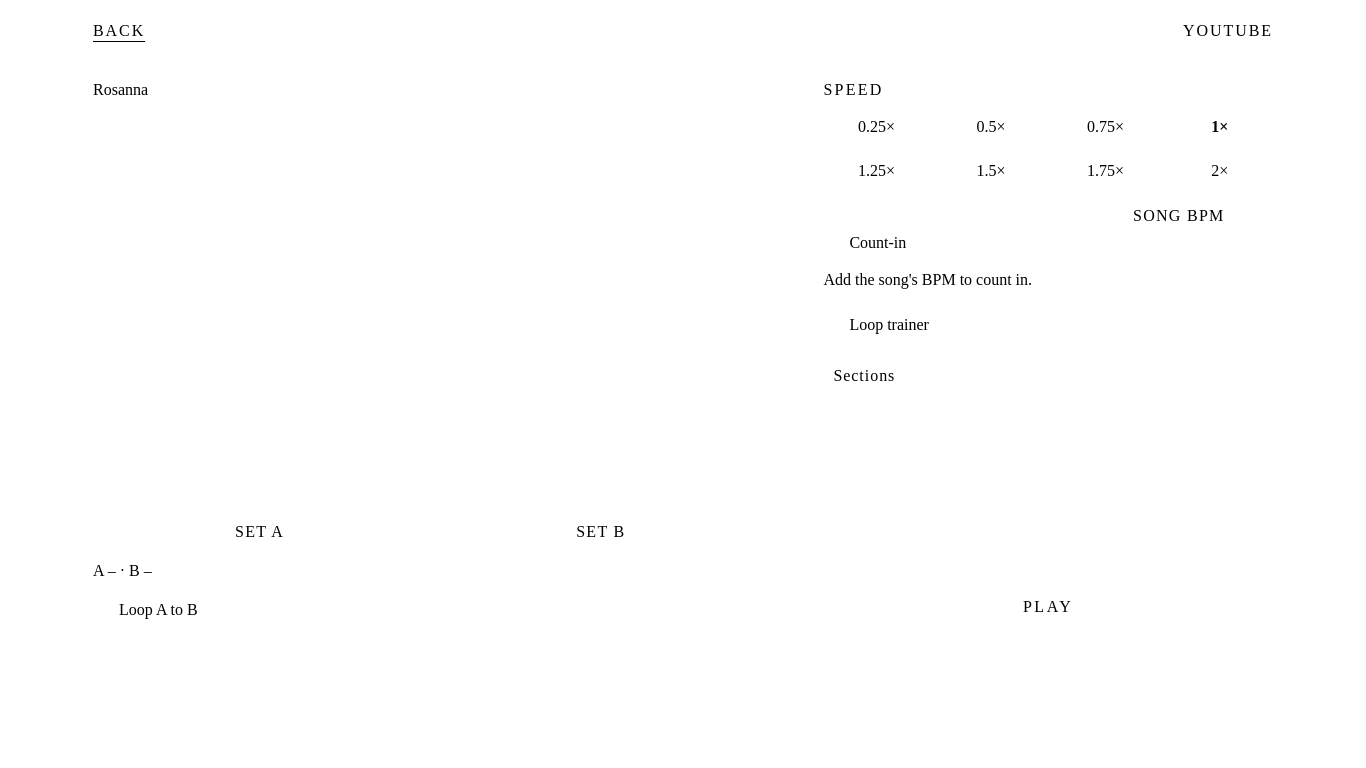
YoutubePlayerScreen › reaching B jumps back to A and counts the pass
Expected: the element named "Speed" is shown, [858,118,1228,179]
Click the button "Set A": (260, 532) [93,514,426,550]
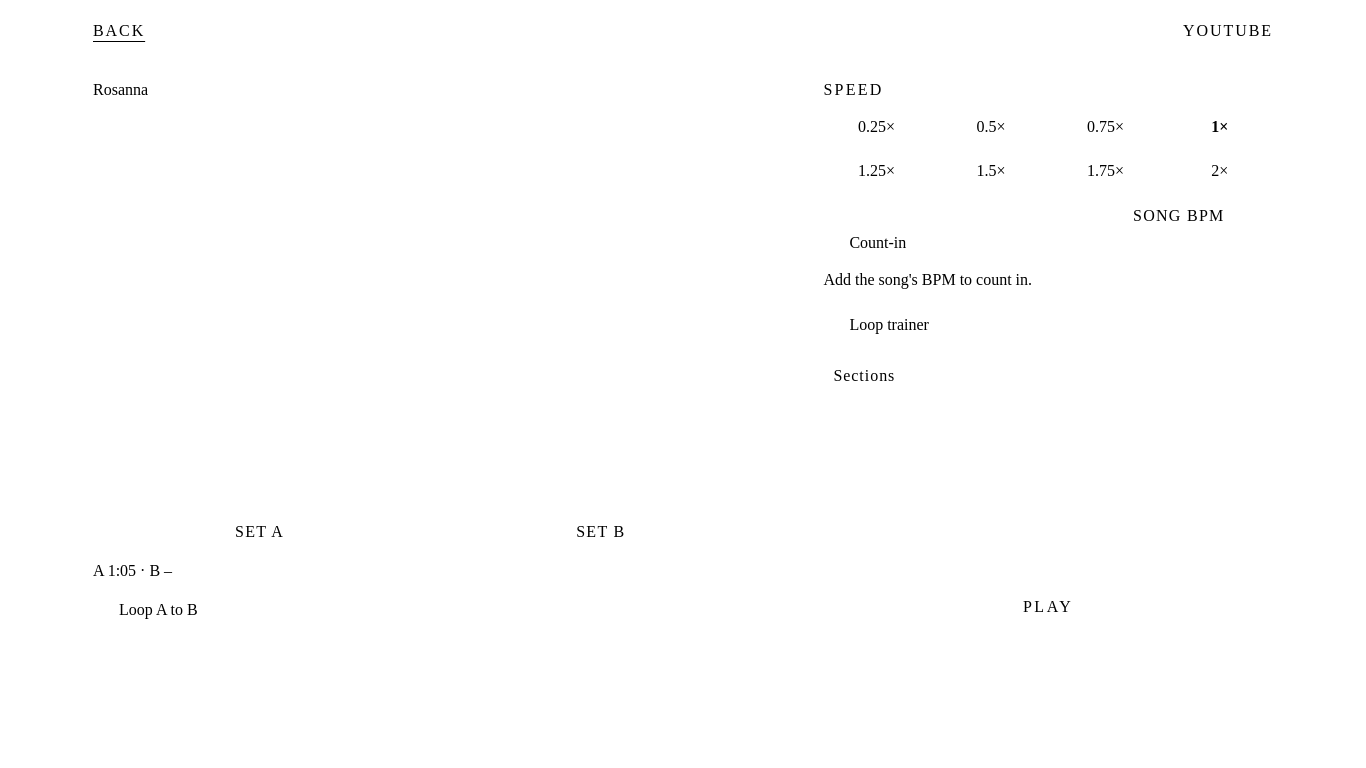
Click the button "Set B": (601, 532) [434,514,767,550]
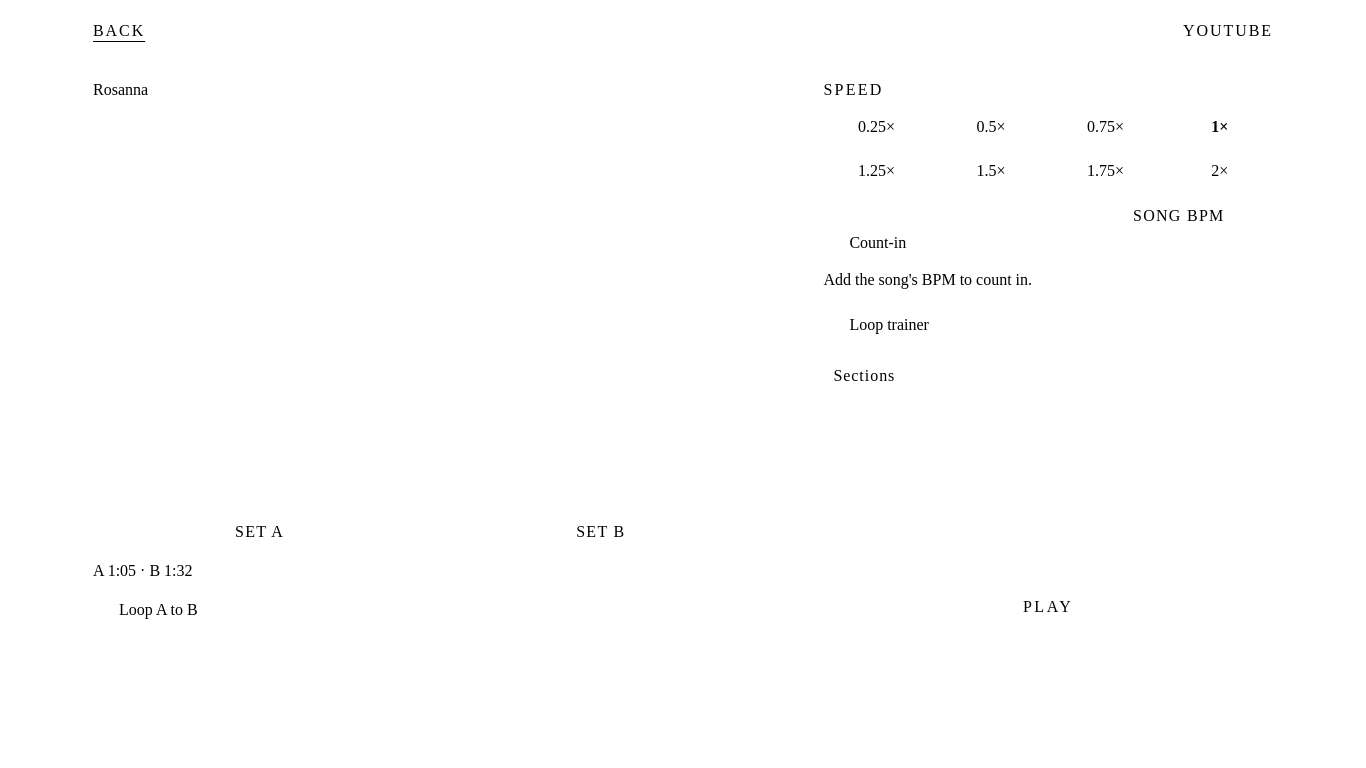
Click the checkbox labelled "Loop A to B": (158, 610) [119,601,198,618]
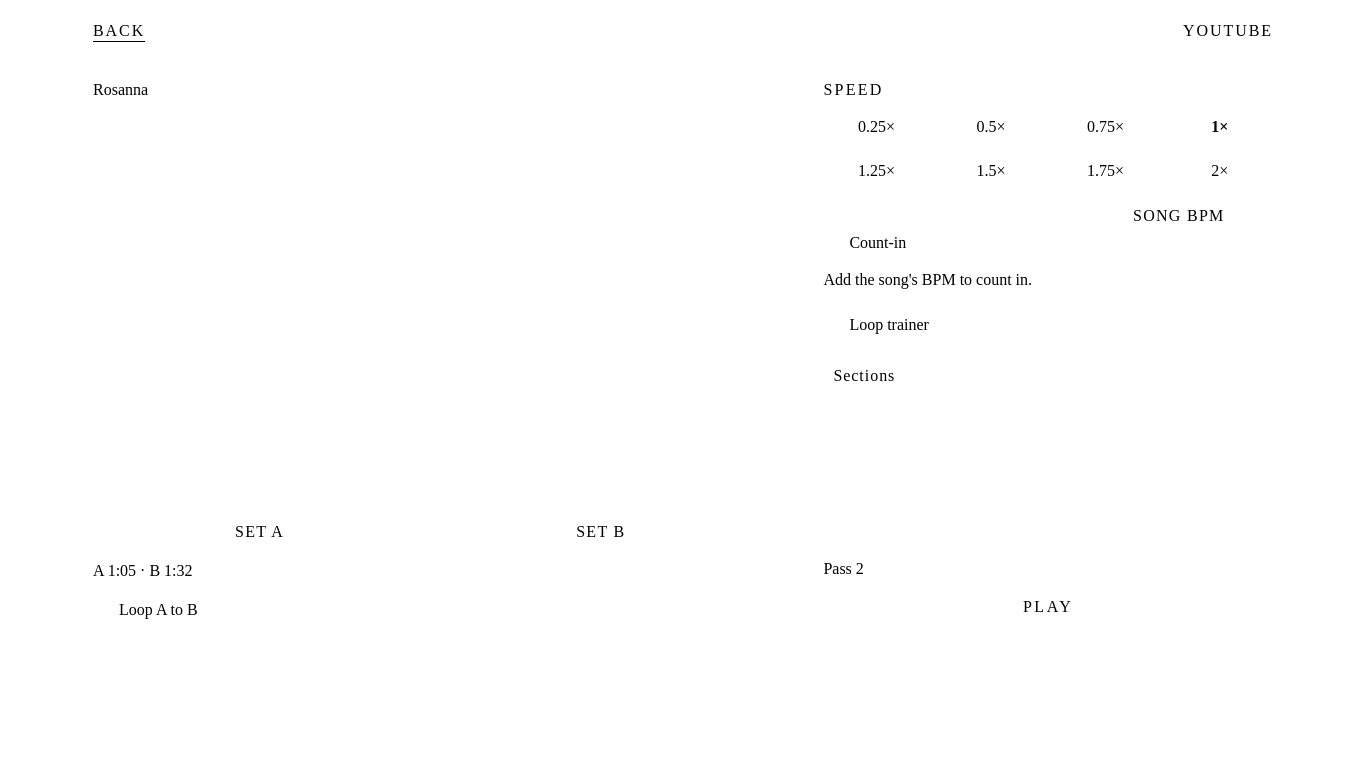
Expected: the text "Pass 2" is shown, [823,560,864,577]
